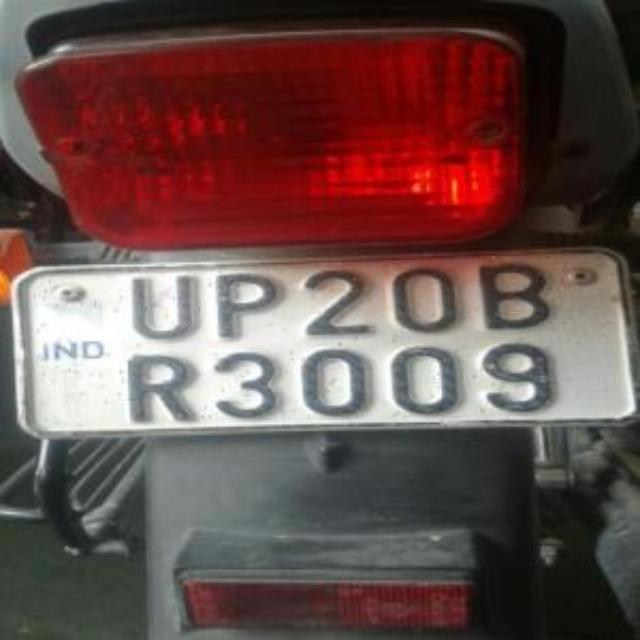License Plate: (36, 254, 614, 433)
